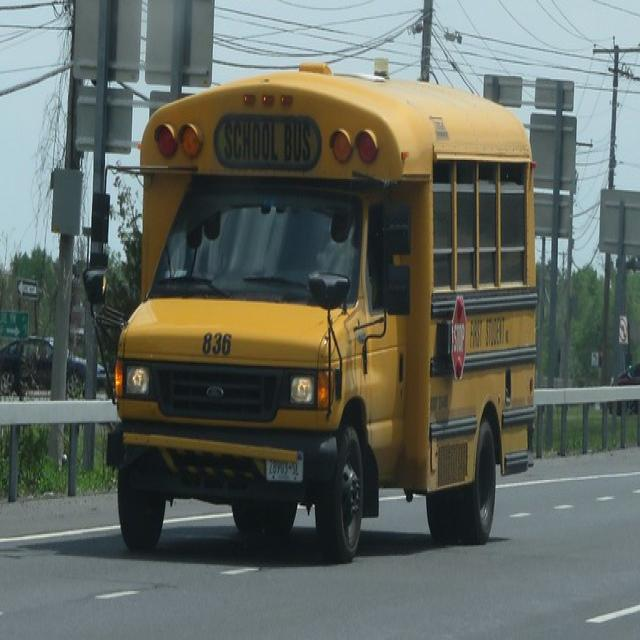Bus: (87, 60, 534, 555), (605, 363, 639, 413)
